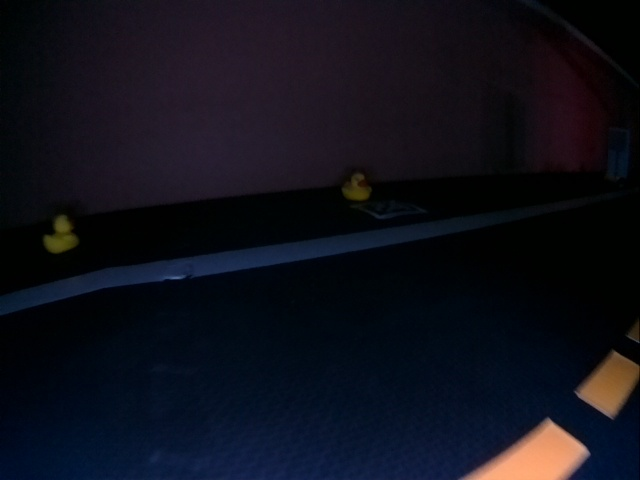Duckie: (44, 213, 78, 253), (343, 173, 370, 200)
QR code: (358, 198, 426, 219)
